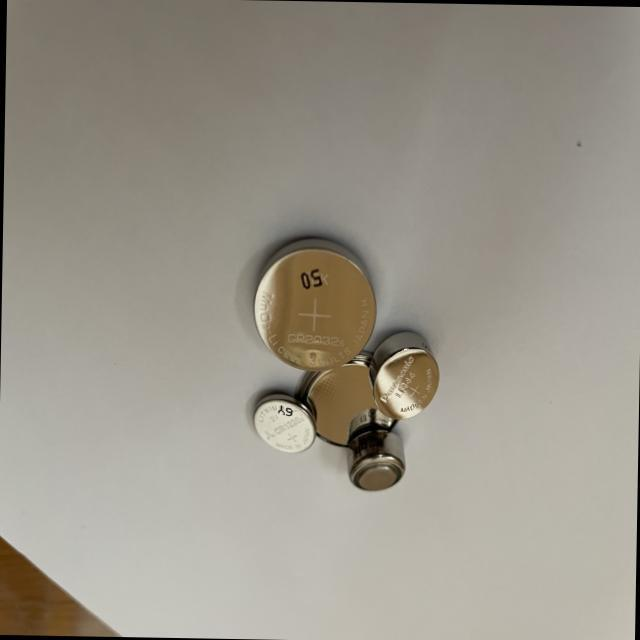COIN: (249, 232, 378, 372), (297, 346, 402, 446), (364, 328, 442, 420), (343, 425, 405, 494), (250, 392, 316, 453)
